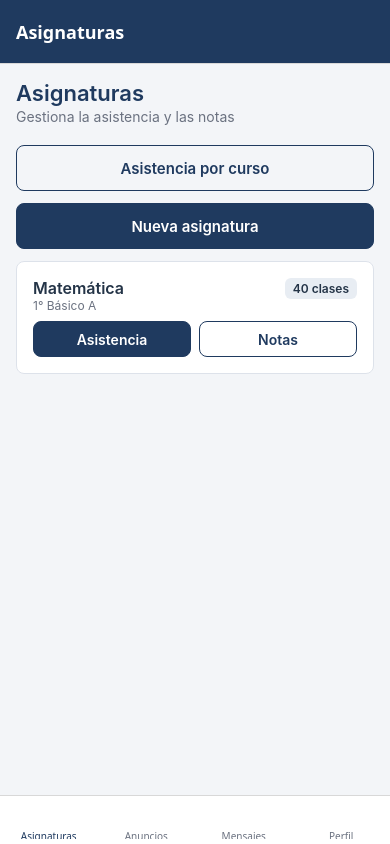
Test: App › muestra las asignaturas del profesor y abre la asistencia por curso
The width and height of the screenshot is (390, 844).
Check: the text "Matemática" is shown, box [33,278,124,298]
Click the text "Asistencia por curso" at {"x": 195, "y": 168}, box [120,158,270,178]
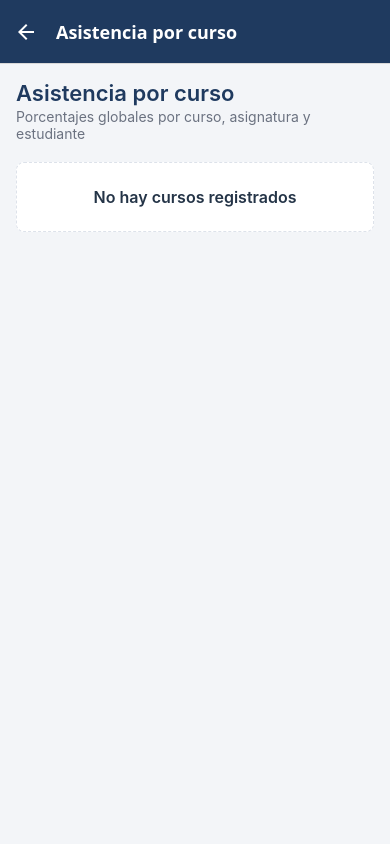
Check: the heading "Asistencia por curso" is shown, box [56,20,237,44]
